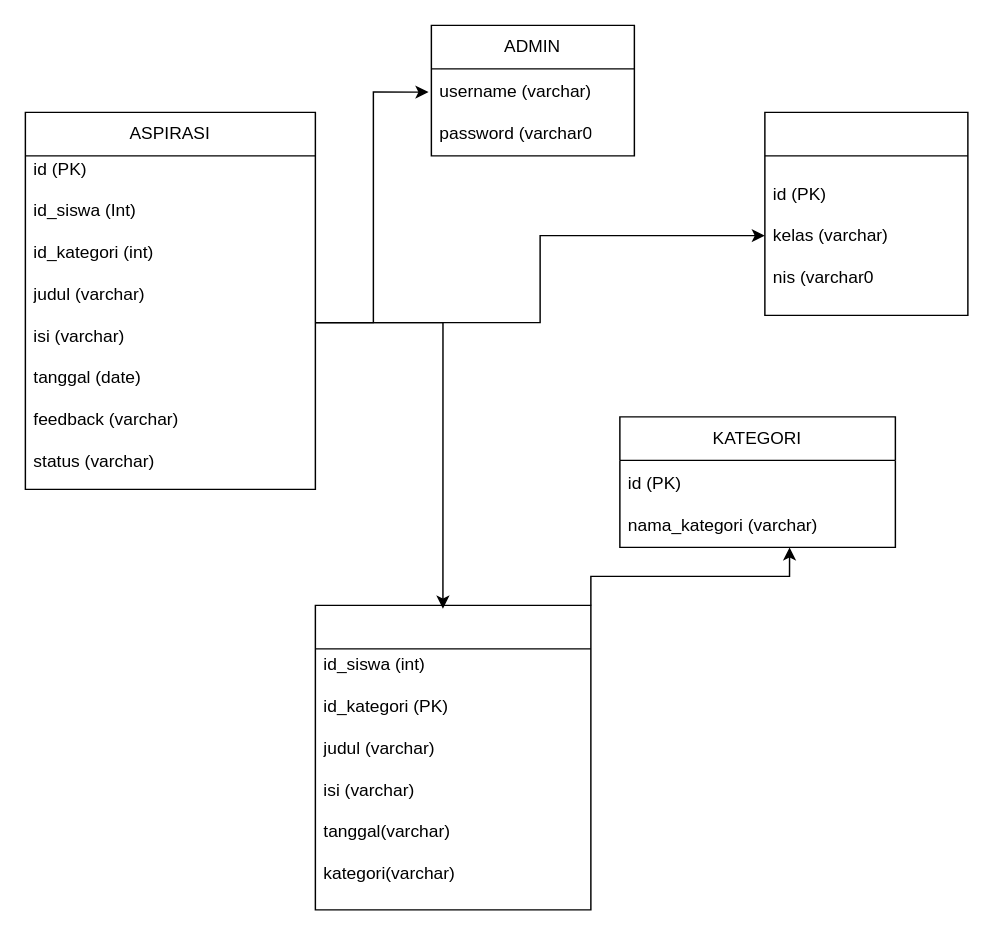
Some shapes in this 993 by 935 pixel diagram are drawn without their labels. The box of each missing label's shape, as (x1, y1, x2, y2) in pixels:
INPUT ASPIRASI: (314, 604, 591, 910)
SISWA: (763, 111, 968, 315)
